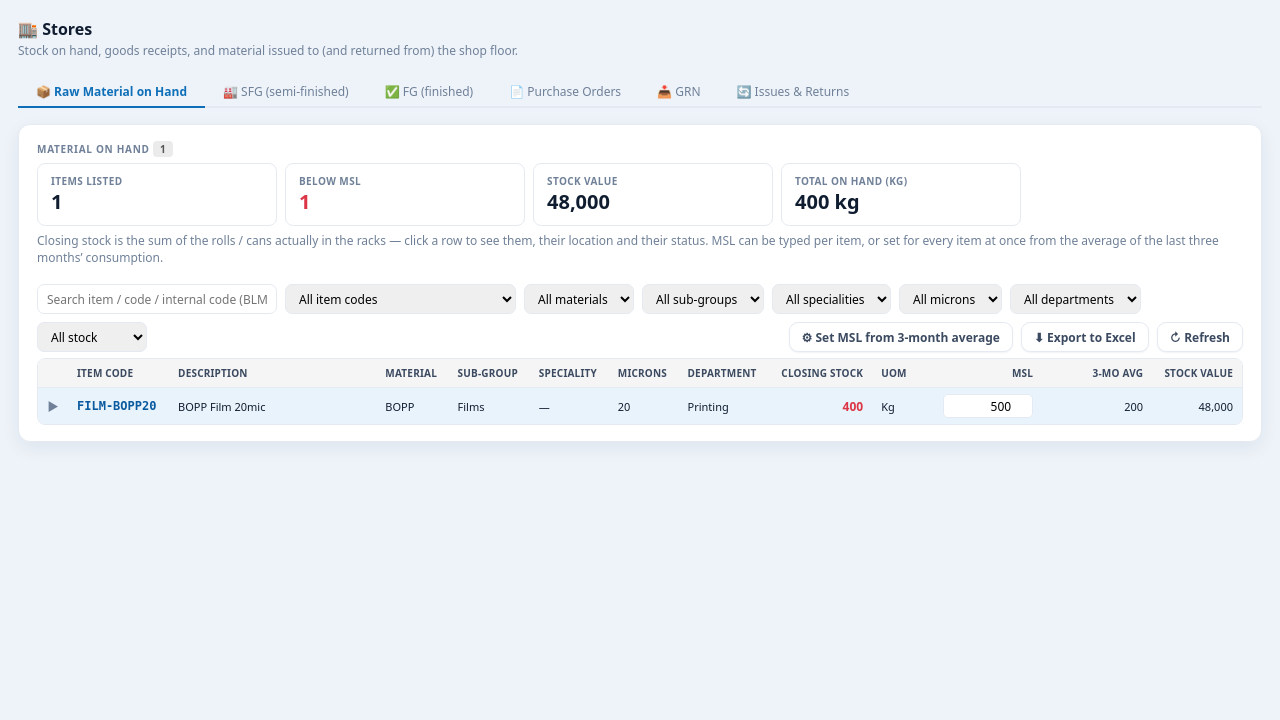
Stores — stock in SFG and FG form › lists finished goods per spec with what is still in hand — the FG Entry sheet itself
Click the text "✅ FG (finished)". click: (429, 92)
box: x1=385 y1=83 x2=473 y2=100
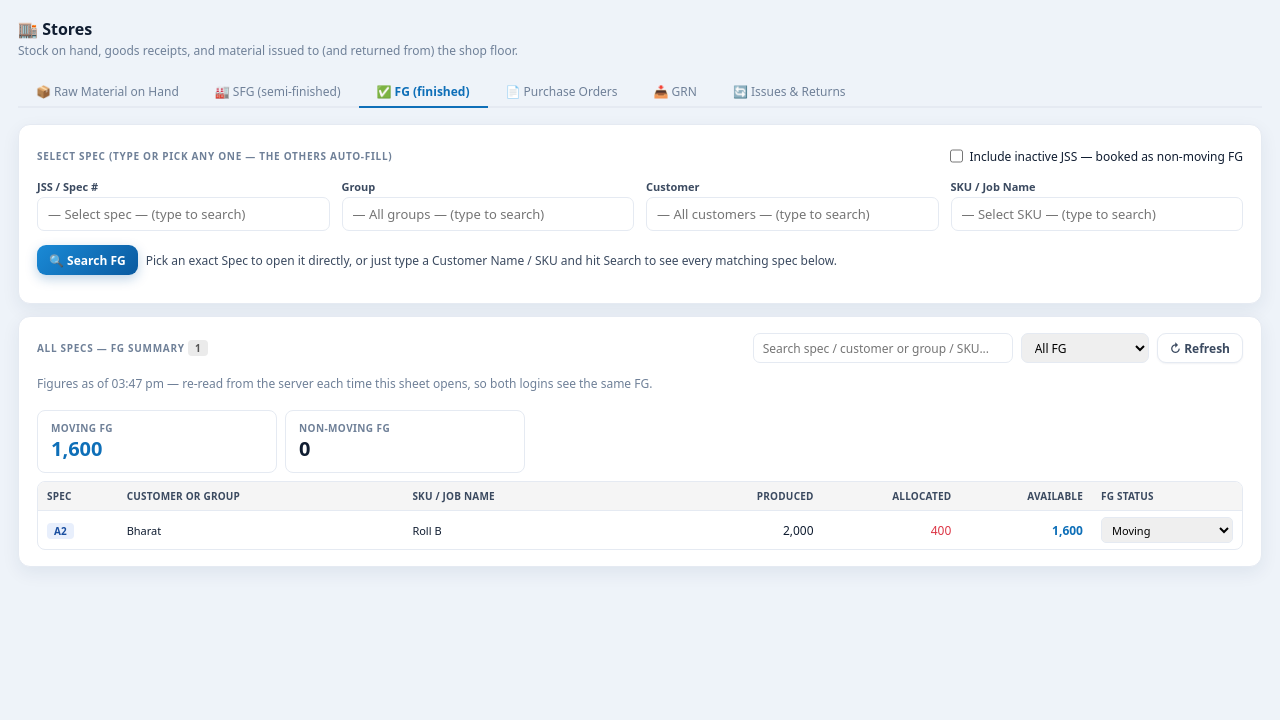
Expected: the text "2,000" is shown, x1=689 y1=510 x2=823 y2=549
Expected: the text "1,600" is shown, x1=960 y1=510 x2=1092 y2=549
Expected: the field named "JSS / Spec #" is shown
Type "A2" into the field named "JSS / Spec #". click: (183, 214)
box: x1=37 y1=197 x2=330 y2=231
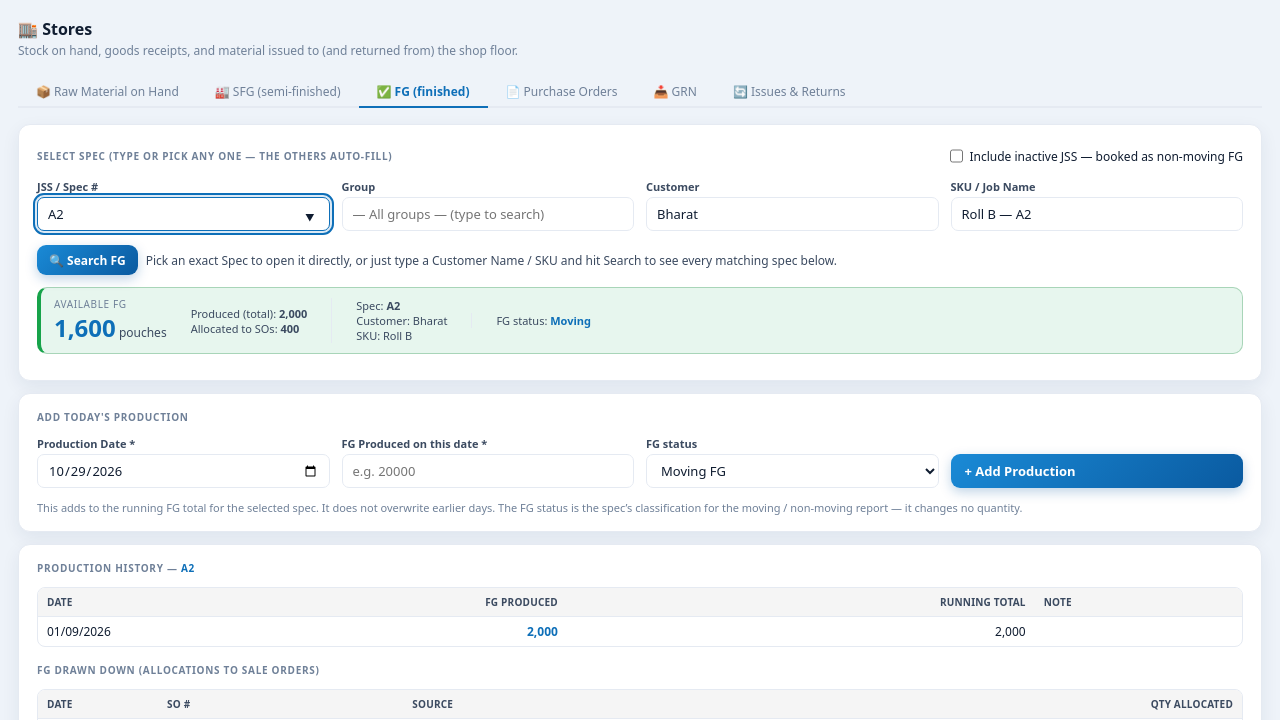
Expected: the dropdown named "FG status" shows "Moving FG", x1=646 y1=454 x2=938 y2=488
